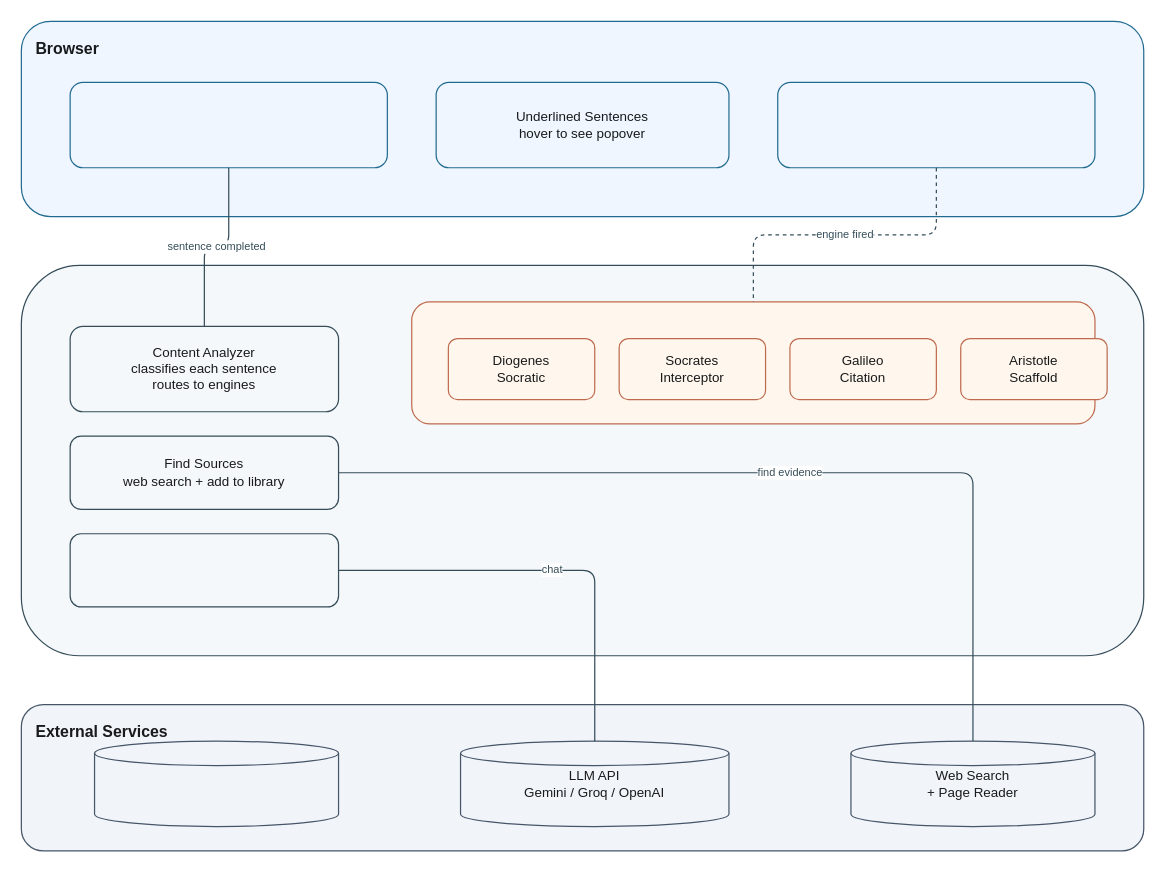
Image size: 1165x872. Some labels were removed from this diagram. Each missing label, with the box of its shape:
4 AI Engines: (411, 301, 1095, 424)
AI Service provider abstraction: (69, 533, 339, 607)
Database SQLite / Postgres: (93, 740, 339, 827)
Next.js App - Single Deployable: (20, 264, 1144, 656)
Notebook Editor contenteditable + auto-save: (69, 81, 387, 168)
Pixelated Pets animate when engines fire: (777, 81, 1095, 168)
